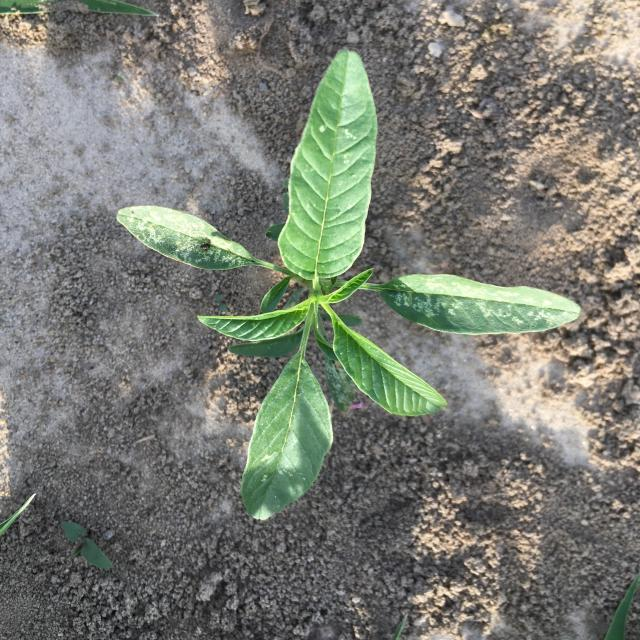Waterhemp: (116, 49, 581, 520)
